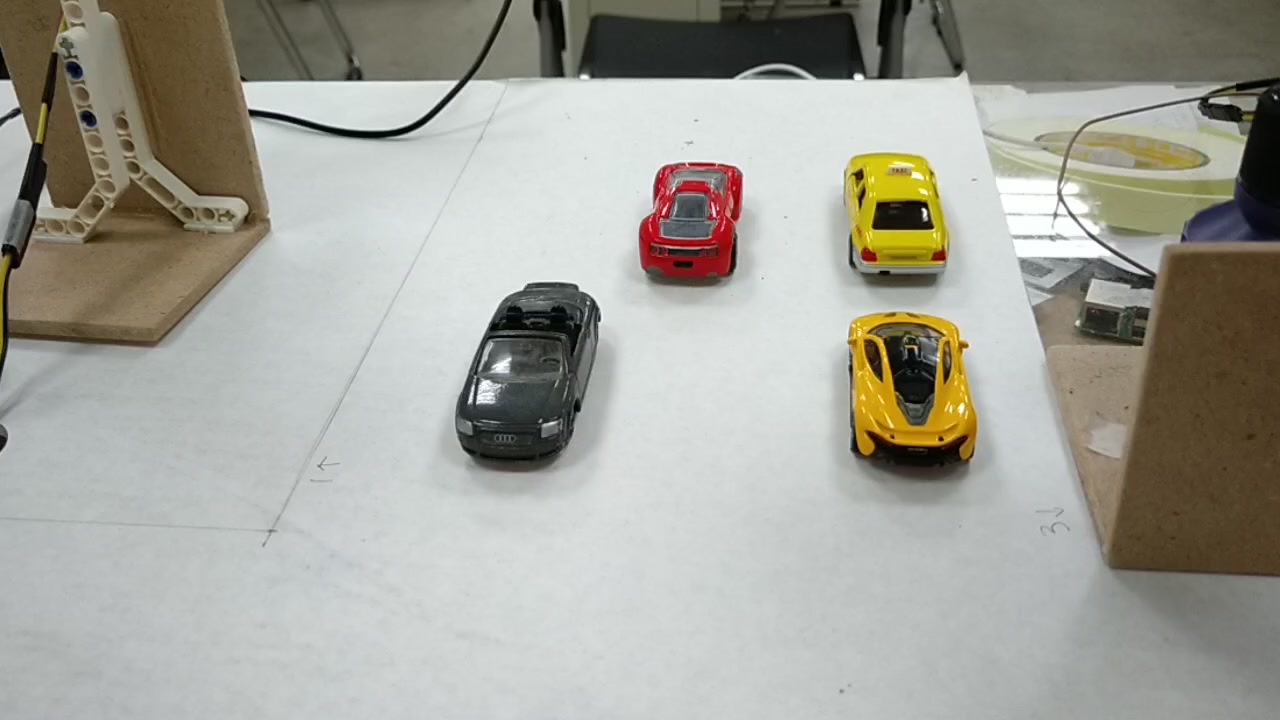car: (452, 285, 612, 460), (849, 323, 971, 466), (844, 152, 951, 276), (641, 160, 754, 276)
